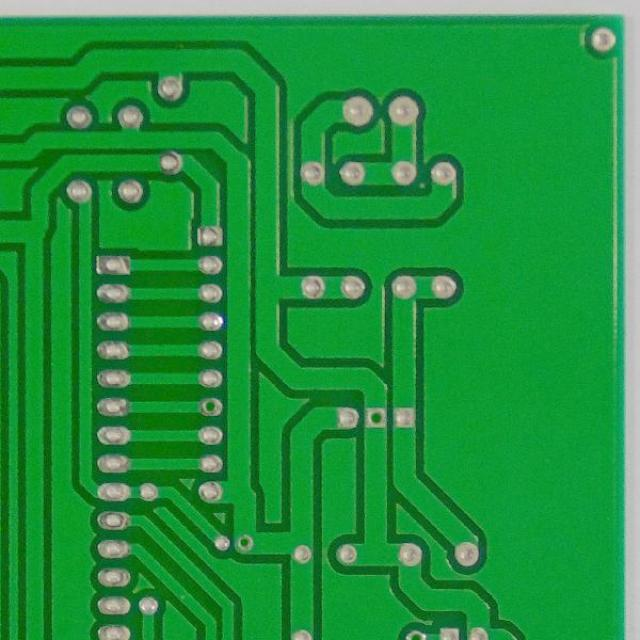Missing_Hole: (363, 403, 388, 431), (197, 397, 224, 418), (234, 533, 255, 554), (404, 626, 429, 640)
